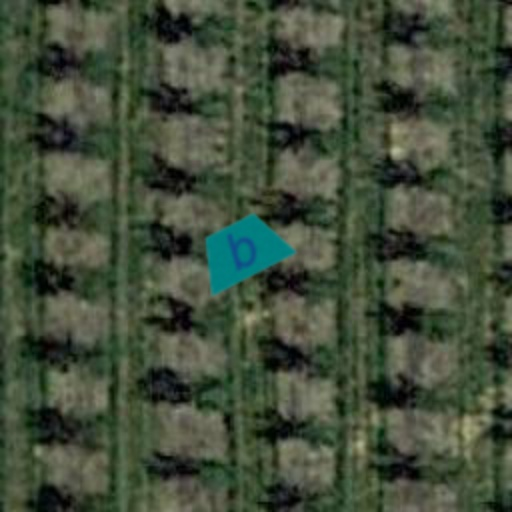trapezoid: (176, 184, 308, 316)
